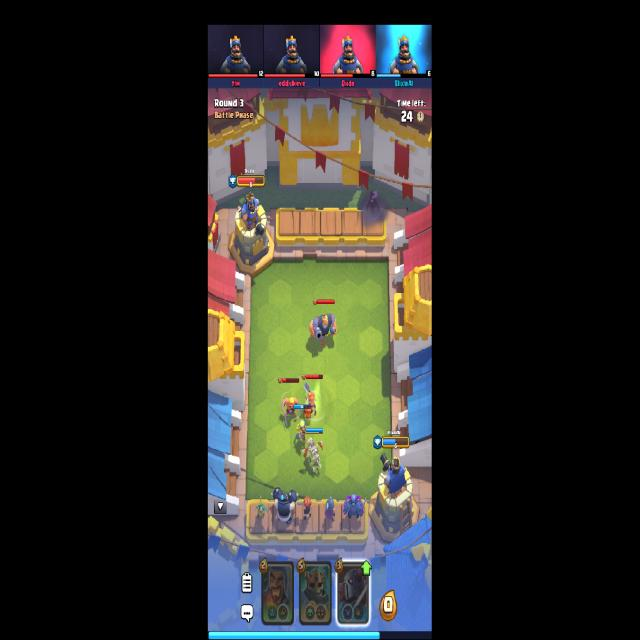barbarian: (280, 395, 299, 424)
card_pekka: (336, 559, 369, 624)
card_skeleton_king: (298, 560, 332, 625)
card_wizard: (261, 560, 294, 625)
dart_goblin: (255, 494, 268, 522)
mega_knight: (271, 486, 298, 524)
musketeer: (324, 496, 336, 523)
pekka: (343, 494, 367, 519)
royal_giant: (309, 313, 338, 347)
skeleton_dragon: (303, 438, 324, 471)
spear_goblin: (294, 418, 308, 444)
valkyrie: (302, 382, 318, 416), (296, 496, 313, 521)
